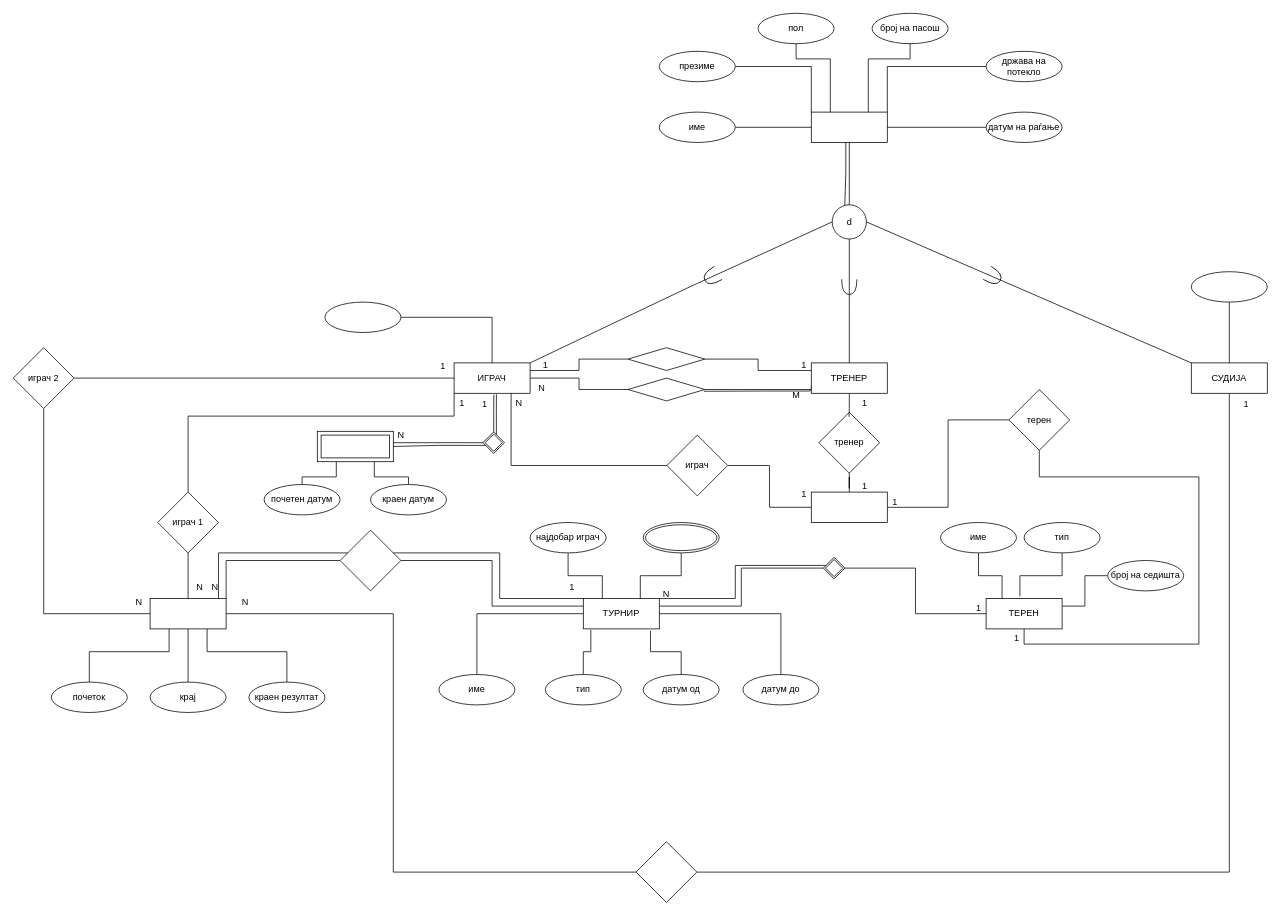
This 1281x916 diagram has some shape labels left out. The centre of each missing label's shape, as x and y in pixels:
"го тренира" goes at point 666,389.
"година на искуство" goes at point 1229,286.
"година на почеток" goes at point 362,316.
"НАТРПРЕВАР" goes at point 187,613.
"РАНГ" goes at point 355,446.
"се одржува" goes at point 370,560.
"спонзори" goes at point 680,537.
"станува" goes at point 666,358.
"суди" goes at point 666,871.
"ТРЕНИНГ" goes at point 849,506.
"УЧЕСНИК" goes at point 849,126.
